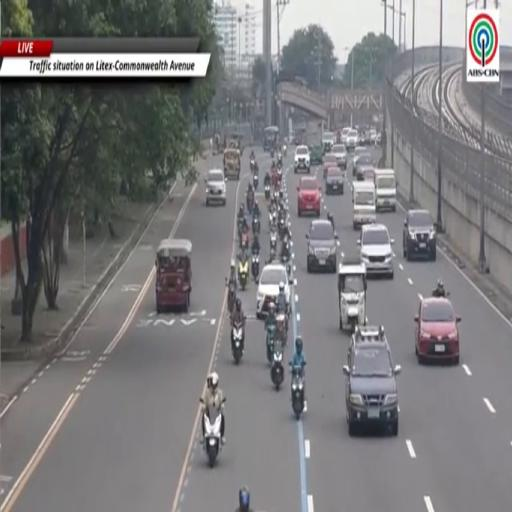bus: (264, 126, 279, 152)
car: (343, 327, 401, 436), (415, 297, 460, 364), (357, 224, 394, 279), (256, 263, 290, 318), (306, 219, 338, 273), (403, 210, 436, 261), (297, 176, 321, 217), (205, 169, 226, 205), (325, 167, 345, 195), (353, 153, 374, 179), (294, 146, 310, 173), (332, 144, 347, 169), (322, 153, 336, 179), (352, 147, 369, 168), (309, 144, 323, 165), (345, 130, 358, 151), (322, 133, 334, 153), (341, 127, 350, 145), (369, 130, 377, 145)
jeepney: (156, 238, 191, 313), (338, 259, 366, 332), (224, 149, 241, 180)
motorcycle: (203, 406, 222, 468), (291, 367, 304, 420), (271, 341, 284, 390), (231, 323, 244, 364), (276, 313, 287, 345), (266, 326, 275, 363), (239, 258, 248, 290), (228, 282, 236, 313), (281, 240, 290, 264), (252, 252, 259, 280), (280, 246, 289, 265), (432, 288, 449, 297), (246, 194, 254, 213), (240, 231, 248, 250), (237, 217, 244, 238), (278, 216, 285, 237), (252, 217, 260, 234), (269, 211, 276, 230), (270, 232, 277, 251), (277, 165, 282, 186), (269, 248, 275, 262), (253, 173, 258, 189), (265, 185, 270, 200), (250, 159, 255, 172), (277, 152, 282, 165), (283, 144, 287, 157), (270, 149, 274, 157)
